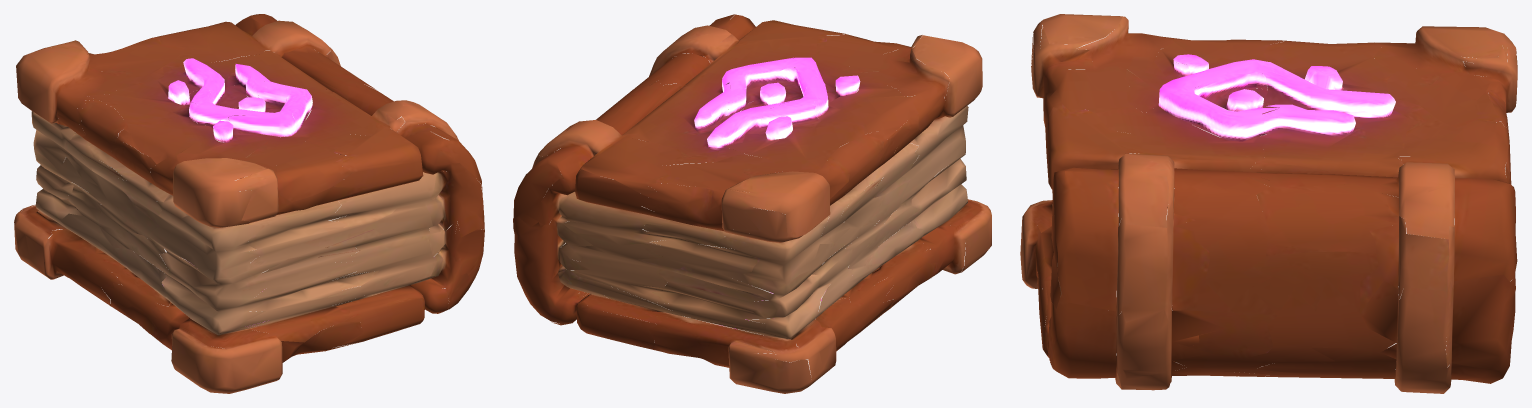
Rendered from Arm_spellbook-B_NI95rA.glb.
The picture shows the model from 3 angles, left to right: view 1: azimuth 30°, elevation 25°; view 2: azimuth 150°, elevation 25°; view 3: azimuth 270°, elevation 25°; orthographic projection. The views are drawn at different scales.
Parts seen in each view (by area): view 1: Arm_spellbook; view 2: Arm_spellbook; view 3: Arm_spellbook.
Boxes of the visible parts, x1,y1,x2,y2 form: Arm_spellbook: [14, 14, 484, 393]; Arm_spellbook: [513, 14, 991, 393]; Arm_spellbook: [1020, 14, 1517, 393].
Bounding box in the file's own units: 0.4921 × 0.3338 × 0.5993.
1 material, 1 textured.
